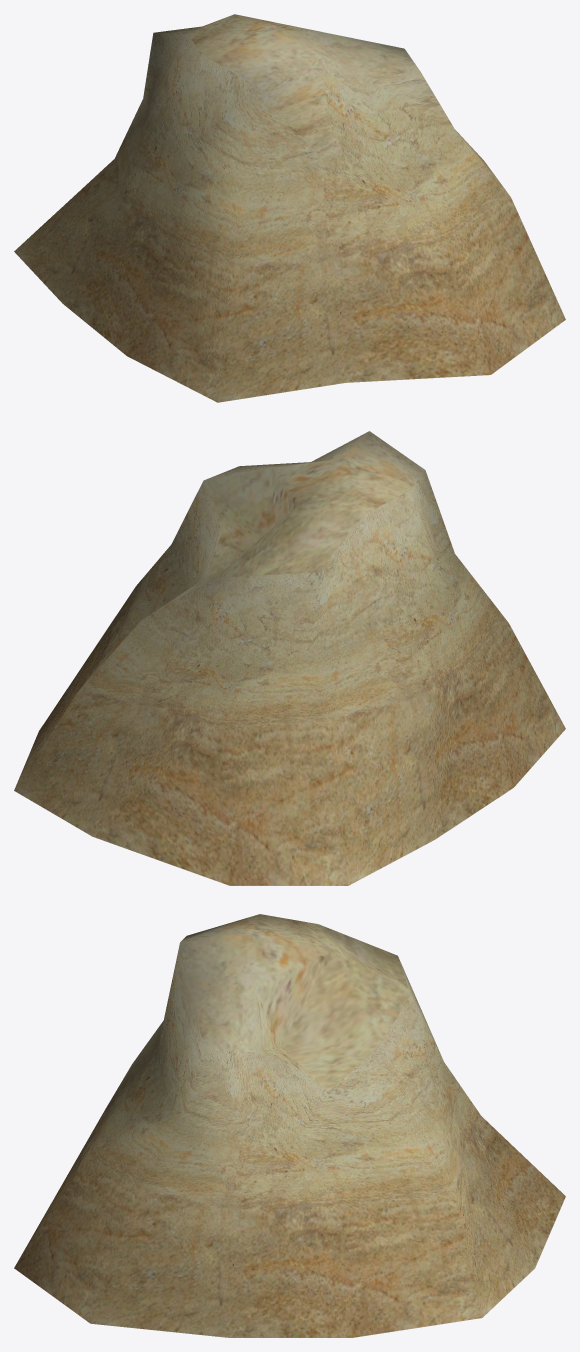
File: rock_beach_spike_a3_l2.fbx
The picture shows the model from 3 angles, top to bottom: view 1: azimuth 30°, elevation 25°; view 2: azimuth 150°, elevation 25°; view 3: azimuth 270°, elevation 25°; orthographic projection. The views are drawn at different scales.
Visible parts, largest first — view 1: mesh_node; view 2: mesh_node; view 3: mesh_node.
Part boxes in pixels (x1,y1,x2,y2): mesh_node: (14,14,565,402); mesh_node: (14,431,565,885); mesh_node: (14,914,565,1337).
Bounding box in the file's own units: 5.74 × 3.92 × 6.88.
1 material, 1 textured.
